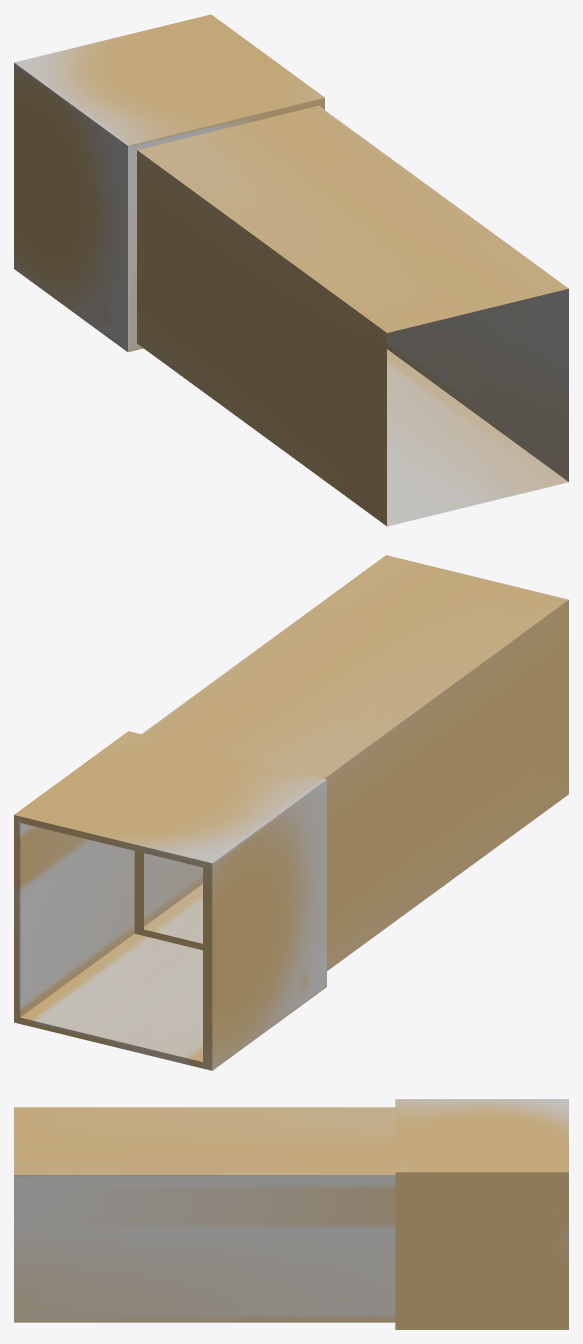
3 views of the same model, one above another, from view 1: azimuth 30°, elevation 25°; view 2: azimuth 150°, elevation 25°; view 3: azimuth 270°, elevation 25° (orthographic). The views are drawn at different scales.
Visible parts, largest first — view 1: Cube; view 2: Cube; view 3: Cube.
Part boxes in pixels (<box>): Cube: <box>14,14,568,526</box>; Cube: <box>14,555,568,1070</box>; Cube: <box>14,1099,568,1329</box>.
Size of the model in its own units: 200 by 200 by 639.
